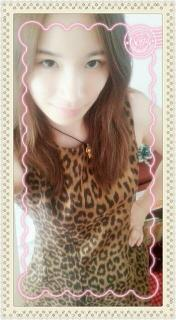vest: (12, 91, 152, 306)
